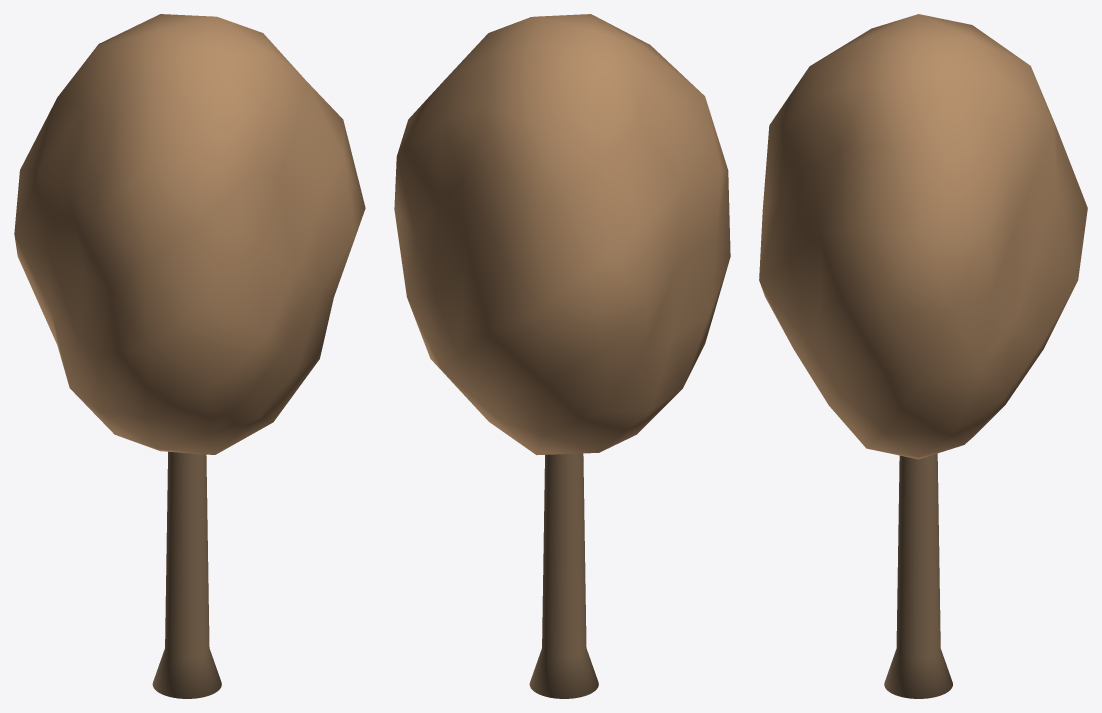
The model's file is mapletree.glb.
3 renders of one model, left to right at view 1: azimuth 30°, elevation 25°; view 2: azimuth 150°, elevation 25°; view 3: azimuth 270°, elevation 25°, orthographic.
Visible parts, largest first — view 1: maple-continuous-crown, maple-rooted-trunk; view 2: maple-continuous-crown, maple-rooted-trunk; view 3: maple-continuous-crown, maple-rooted-trunk.
Boxes of the visible parts, left/top/right/bottom form: maple-continuous-crown: left=14, top=14, right=365, bottom=454; maple-rooted-trunk: left=152, top=451, right=221, bottom=698; maple-continuous-crown: left=394, top=14, right=730, bottom=455; maple-rooted-trunk: left=529, top=453, right=598, bottom=698; maple-continuous-crown: left=759, top=14, right=1087, bottom=459; maple-rooted-trunk: left=884, top=453, right=952, bottom=698.
Size of the model in its own units: 1.35 by 2.95 by 1.34.
